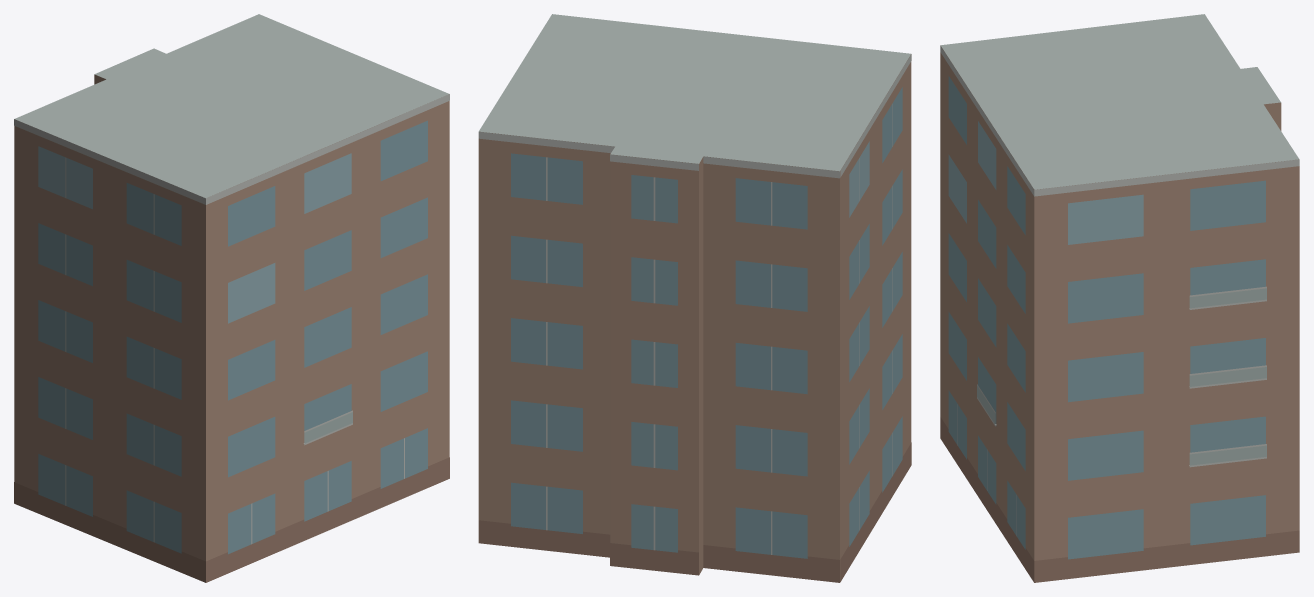
Rendered from survey-upis-32880949.glb.
3 views of the same model, side by side, from view 1: azimuth 30°, elevation 25°; view 2: azimuth 150°, elevation 25°; view 3: azimuth 270°, elevation 25° (orthographic). The views are drawn at different scales.
Parts seen in each view (by area): view 1: survey-upis-32880949.tmp; view 2: survey-upis-32880949.tmp; view 3: survey-upis-32880949.tmp.
Boxes of the visible parts, bbox=[...] form: survey-upis-32880949.tmp: bbox=[14, 14, 449, 582]; survey-upis-32880949.tmp: bbox=[478, 14, 911, 582]; survey-upis-32880949.tmp: bbox=[940, 14, 1299, 582].
Bounding box in the file's own units: 13.53 × 14.1 × 11.68.
